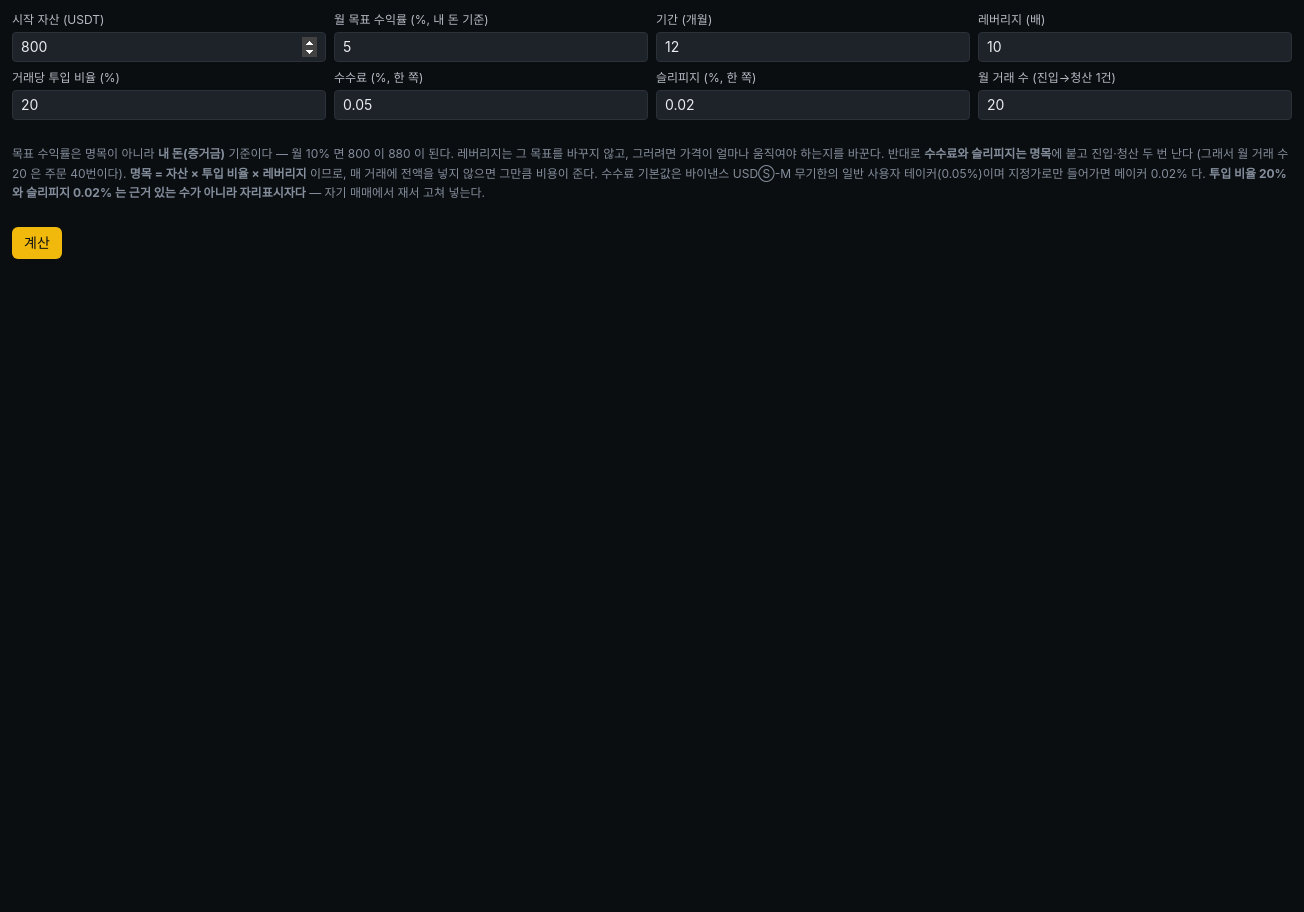
it: 목표 복리 › 번 돈 · 낸 돈 · 남는 돈이 순서대로 서서 뺄셈이 닫힌다
The width and height of the screenshot is (1304, 912).
Click the button "계산" at [37, 242], box [12,226,62,258]
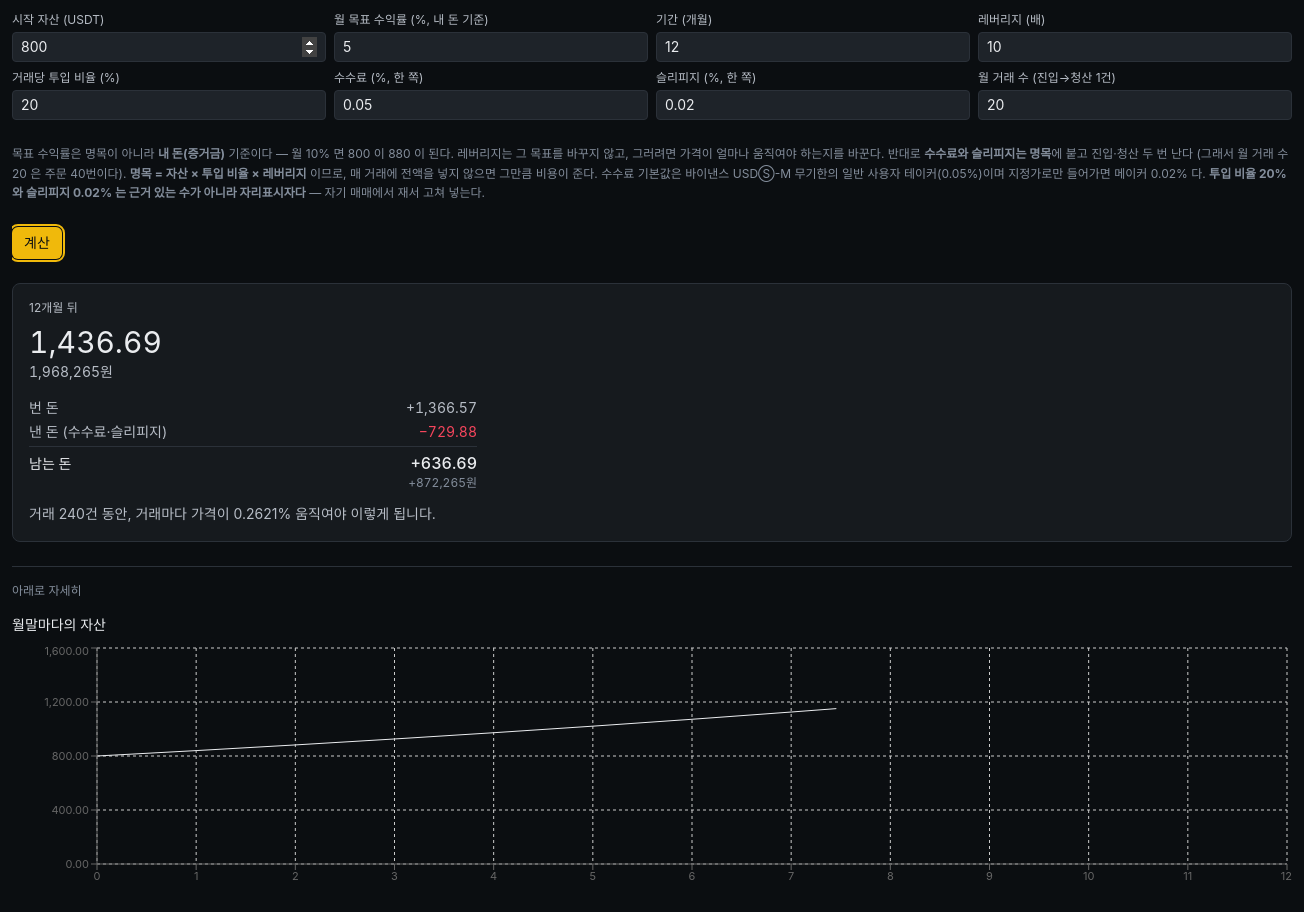
Result: the element named "목표 복리 결과" shows "번 돈" at [29,398,58,416]
Result: the element named "목표 복리 결과" shows "+1,366.57" at [406,398,477,416]
Result: the element named "목표 복리 결과" shows "낸 돈" at [29,422,167,440]
